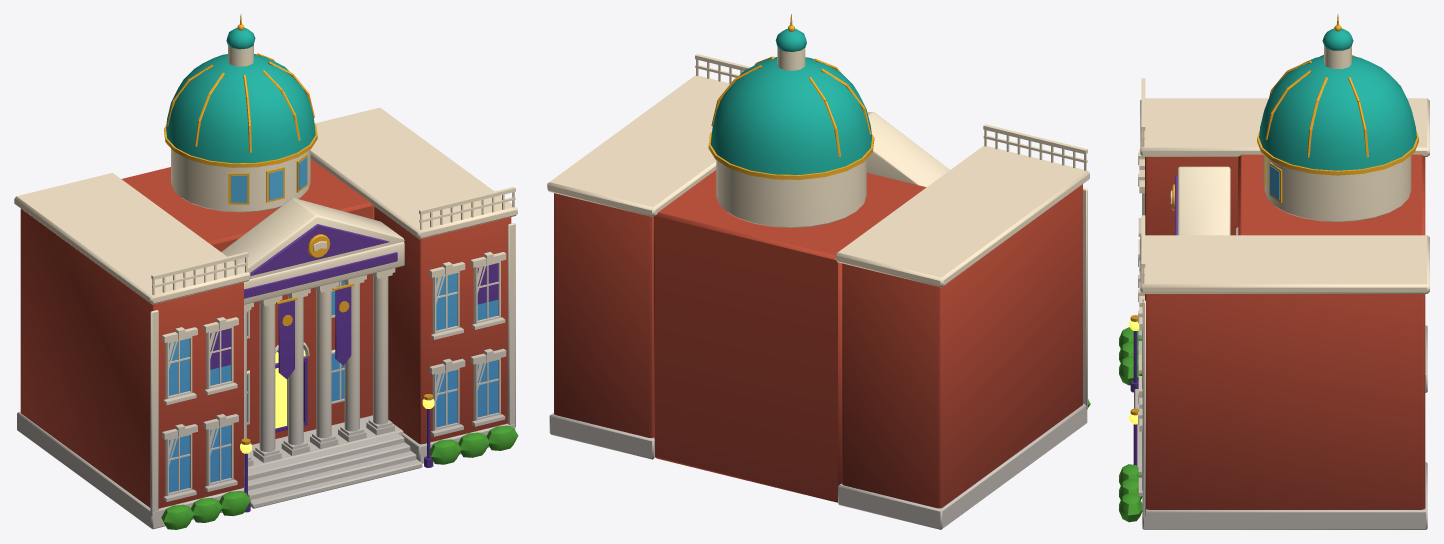
The model's file is campus.glb.
3 renders of one model, left to right at view 1: azimuth 30°, elevation 25°; view 2: azimuth 150°, elevation 25°; view 3: azimuth 270°, elevation 25°, orthographic. The views are drawn at different scales.
Visible parts, largest first — view 1: campus; view 2: campus; view 3: campus.
Part boxes in pixels (left/top/right/bottom): campus: left=14, top=14, right=518, bottom=529; campus: left=547, top=14, right=1090, bottom=529; campus: left=1119, top=14, right=1429, bottom=529.
Size of the model in its own units: 14.3 by 15 by 9.98.
